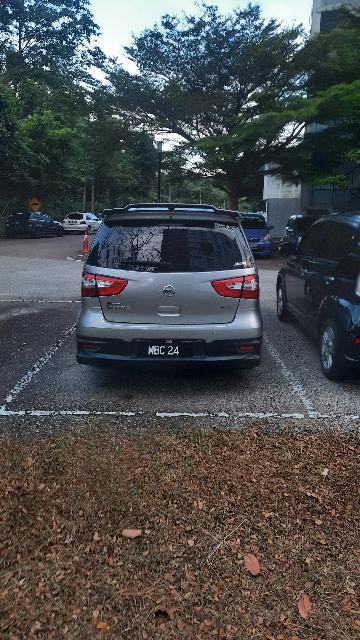License_Plate: (137, 342, 199, 362)
car: (73, 200, 267, 370)
